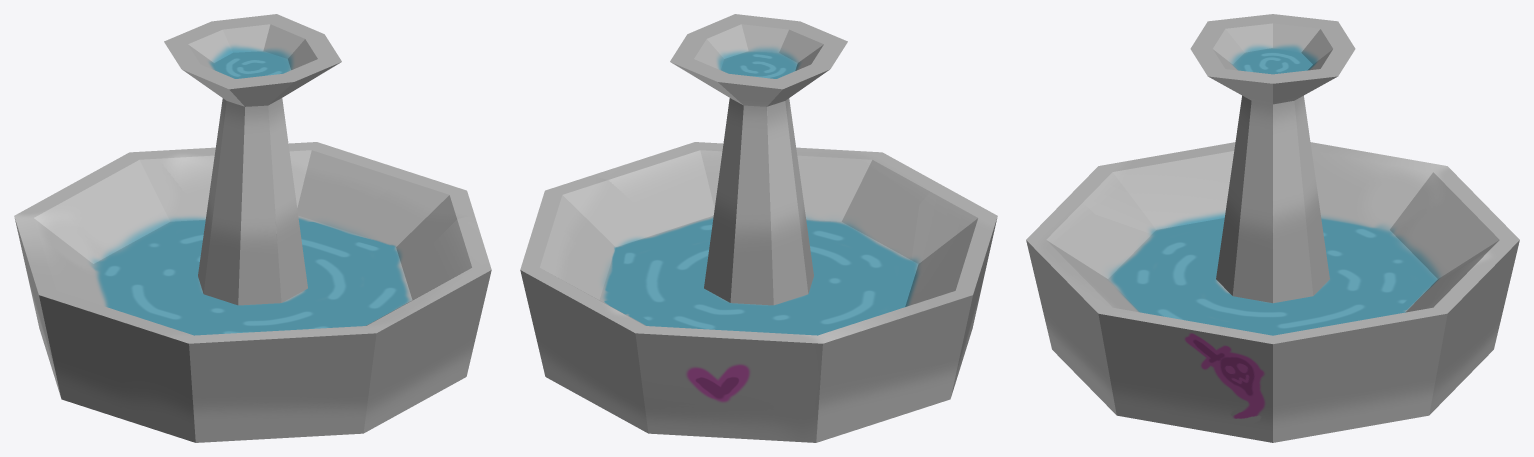
Rendered from Fountain.fbx.
3 renders of one model, left to right at view 1: azimuth 30°, elevation 25°; view 2: azimuth 150°, elevation 25°; view 3: azimuth 270°, elevation 25°, orthographic.
Parts seen in each view (by area): view 1: Cylinder; view 2: Cylinder; view 3: Cylinder.
Part boxes in pixels (left/top/right/bottom): Cylinder: left=14, top=14, right=491, bottom=442; Cylinder: left=520, top=14, right=997, bottom=442; Cylinder: left=1026, top=14, right=1519, bottom=442.
Bounding box in the file's own units: 710 × 477 × 710.
